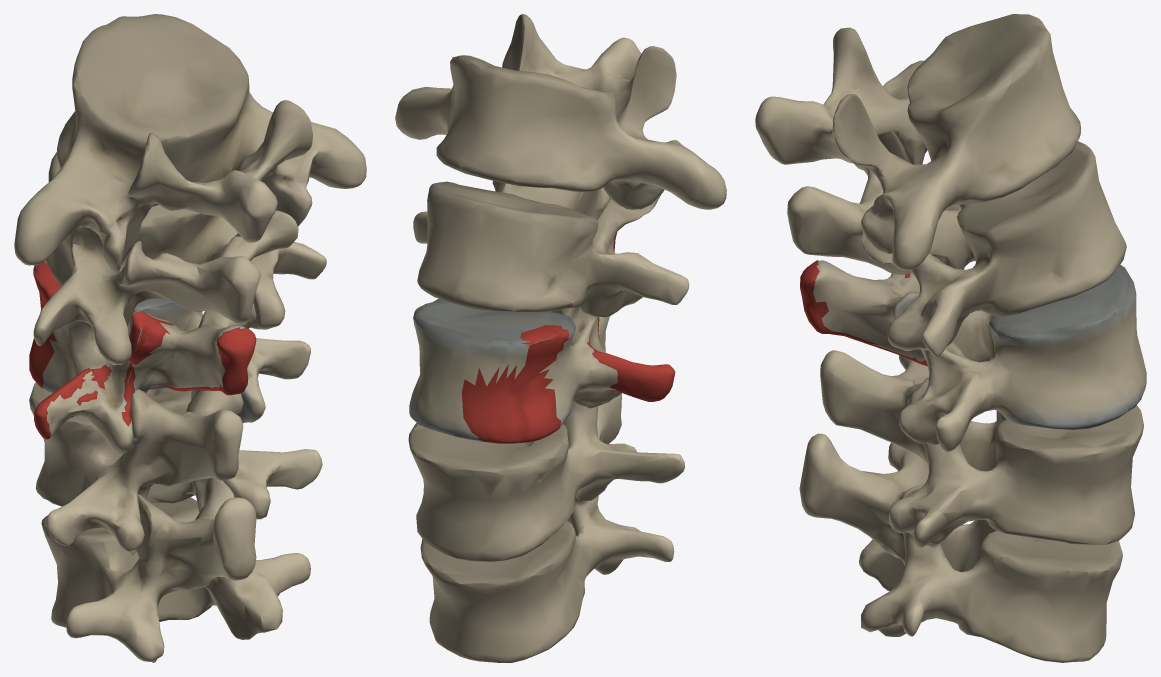
File: vertebrae-lumbales.glb
3 renders of one model, left to right at view 1: azimuth 30°, elevation 25°; view 2: azimuth 150°, elevation 25°; view 3: azimuth 270°, elevation 25°, orthographic. The views are drawn at different scales.
Visible parts, largest first — view 1: FJ3168, FJ3157, FJ3159, FJ3165, FJ3162, origo__spinosus-lamina-pars__m-erector-spinae, vertebrae-lumbales__corpus, origo__corpus__FJ1431, origo__costarius-mamillaris__m-quadratus-lumborum; view 2: FJ3168, FJ3165, FJ3159, FJ3157, vertebrae-lumbales__corpus, FJ3162, origo__corpus__FJ1431, origo__corpus__FJ3131, origo__costarius-mamillaris__m-quadratus-lumborum; view 3: FJ3168, FJ3157, FJ3159, FJ3165, FJ3162, vertebrae-lumbales__corpus, origo__spinosus-lamina-pars__m-erector-spinae.
Boxes of the visible parts, x1,y1,x2,y2 form: FJ3168: (14, 14, 366, 274); FJ3157: (41, 477, 310, 662); FJ3159: (29, 382, 322, 555); FJ3165: (33, 152, 326, 365); FJ3162: (33, 261, 310, 454); origo__spinosus-lamina-pars__m-erector-spinae: (121, 311, 256, 426); vertebrae-lumbales__corpus: (42, 326, 110, 386); origo__corpus__FJ1431: (29, 262, 60, 388); origo__costarius-mamillaris__m-quadratus-lumborum: (34, 364, 111, 439); FJ3168: (395, 14, 726, 209); FJ3165: (413, 181, 689, 317); FJ3159: (408, 316, 684, 561); FJ3157: (420, 393, 674, 662); vertebrae-lumbales__corpus: (409, 311, 617, 442); FJ3162: (409, 299, 621, 426); origo__corpus__FJ1431: (512, 325, 569, 442); origo__corpus__FJ3131: (462, 364, 526, 443); origo__costarius-mamillaris__m-quadratus-lumborum: (587, 340, 675, 401); FJ3168: (755, 14, 1080, 270); FJ3157: (799, 433, 1122, 662); FJ3159: (820, 350, 1143, 547); FJ3165: (787, 141, 1126, 356); FJ3162: (813, 260, 1137, 451); vertebrae-lumbales__corpus: (952, 306, 1146, 414); origo__spinosus-lamina-pars__m-erector-spinae: (800, 260, 927, 366).
Size of the model in its own units: 101 by 167 by 97.11.
